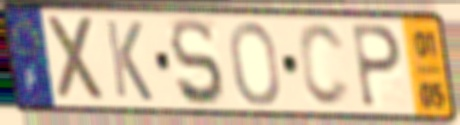C: (296, 20, 354, 111)
K: (102, 16, 156, 104)
O: (227, 19, 283, 108)
P: (349, 21, 404, 112)
S: (167, 15, 228, 110)
X: (44, 12, 109, 105)
